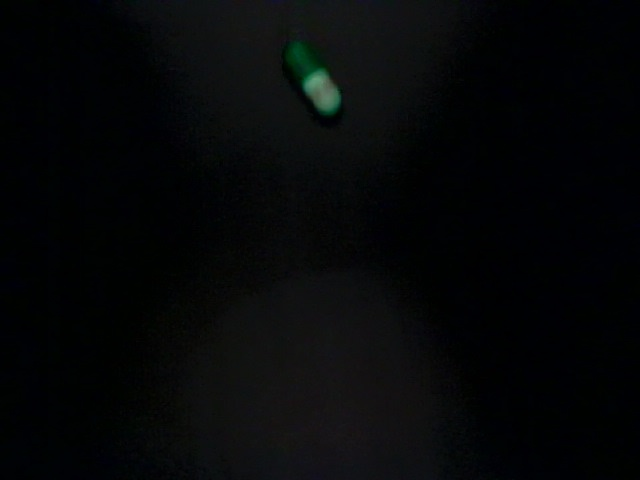YHLJ: (184, 316, 482, 402)
